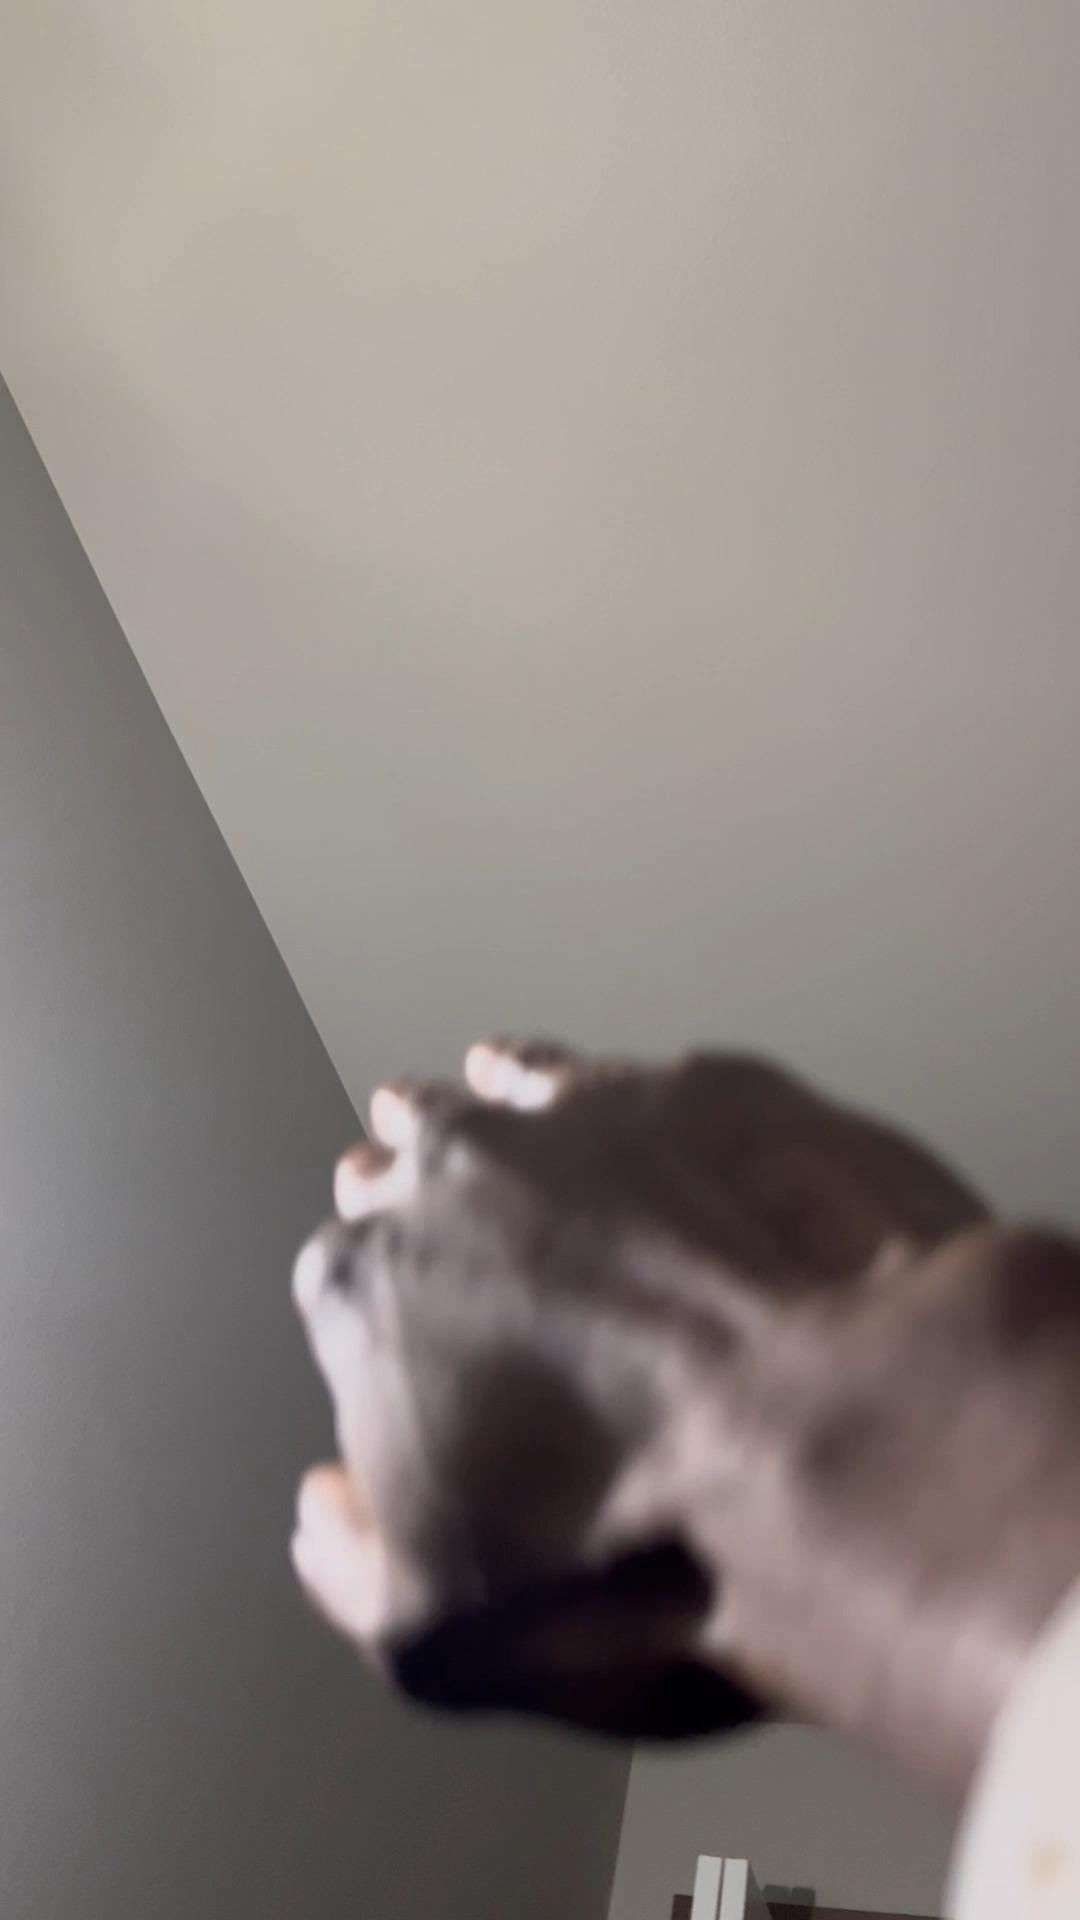Paper: (286, 1031, 1064, 1772)
